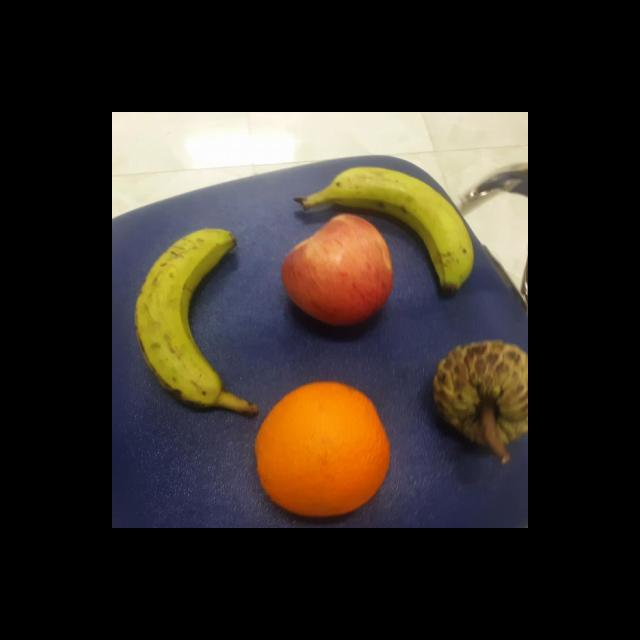Sakya fruit: (432, 338, 528, 452)
apple: (276, 209, 396, 327)
banana: (131, 220, 234, 418), (334, 161, 474, 296)
orange: (256, 379, 388, 520)
